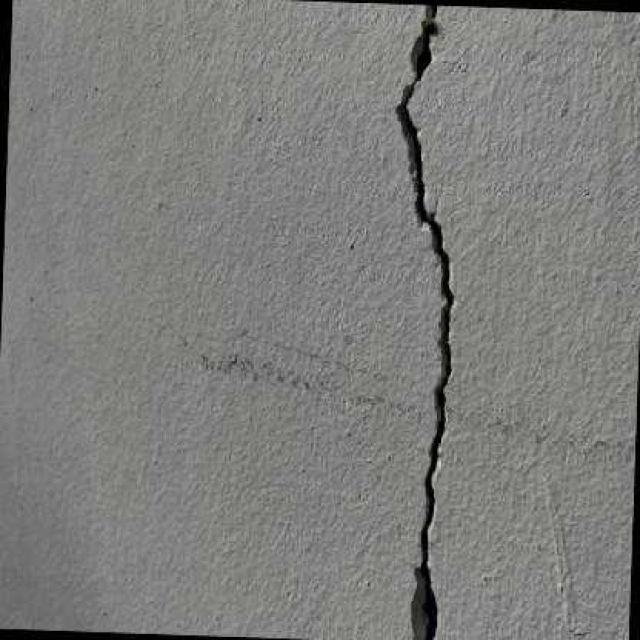D00: (403, 4, 453, 640)
